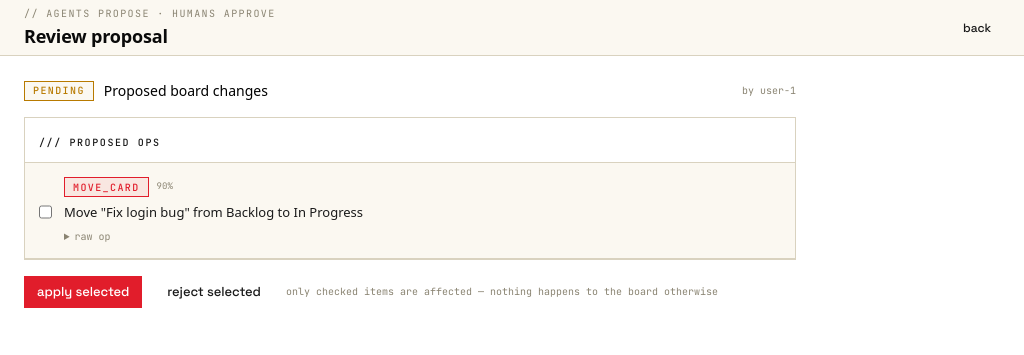
it: ChangeSetReview › apply: renders the server error message on a non-2xx response and re-enables the button
The width and height of the screenshot is (1024, 355).
Step 1. Click the checkbox named "select:" → click(46, 212), box [39,180,52,244]
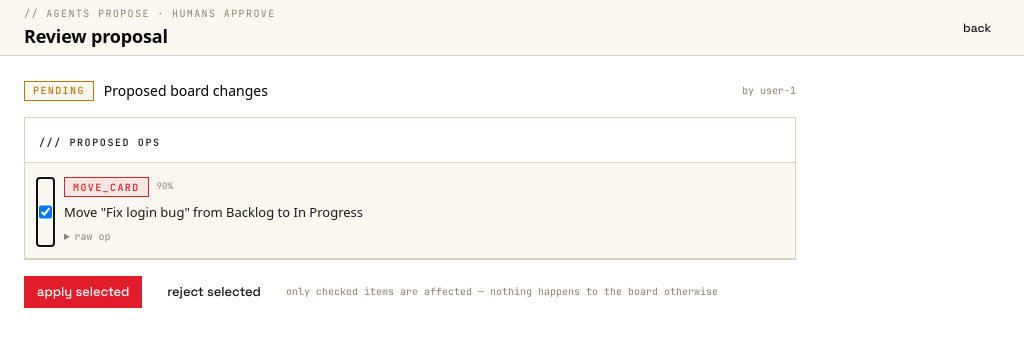
Step 2. Click the button "apply selected" → click(83, 292), box [24,276,142,308]
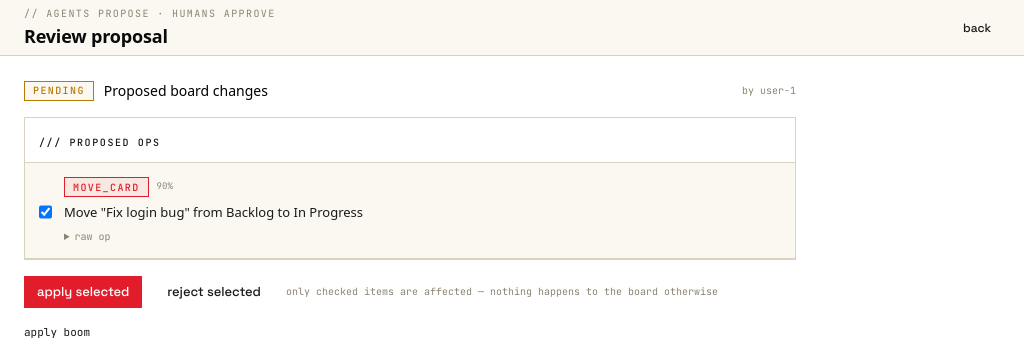
Expected: the text "apply boom" is shown, [24,324,90,338]
